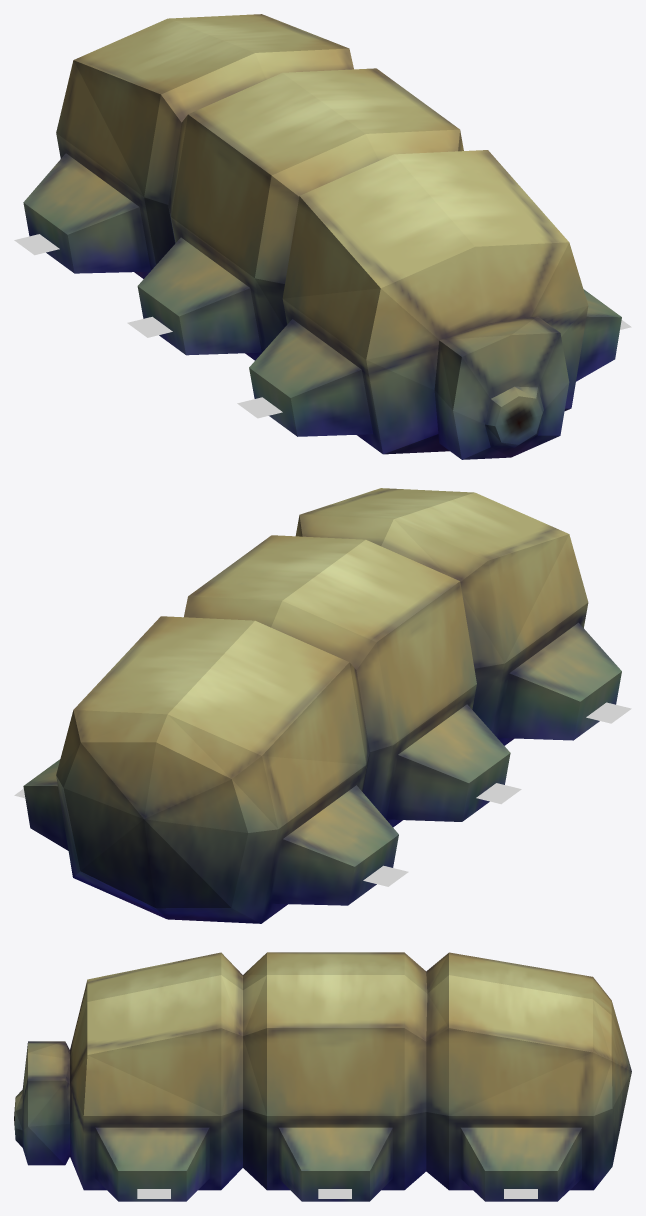
Rendered from water bear.fbx.
The picture shows the model from 3 angles, top to bottom: view 1: azimuth 30°, elevation 25°; view 2: azimuth 150°, elevation 25°; view 3: azimuth 270°, elevation 25°; orthographic projection. The views are drawn at different scales.
Visible parts, largest first — view 1: body, hands; view 2: body, hands; view 3: body, hands.
Boxes of the visible parts, x1,y1,x2,y2 form: body: (23, 14, 621, 459); hands: (14, 234, 631, 418); body: (23, 488, 621, 923); hands: (14, 702, 631, 886); body: (14, 952, 631, 1201); hands: (137, 1189, 537, 1198).
Size of the model in its own units: 400 by 239 by 695.
